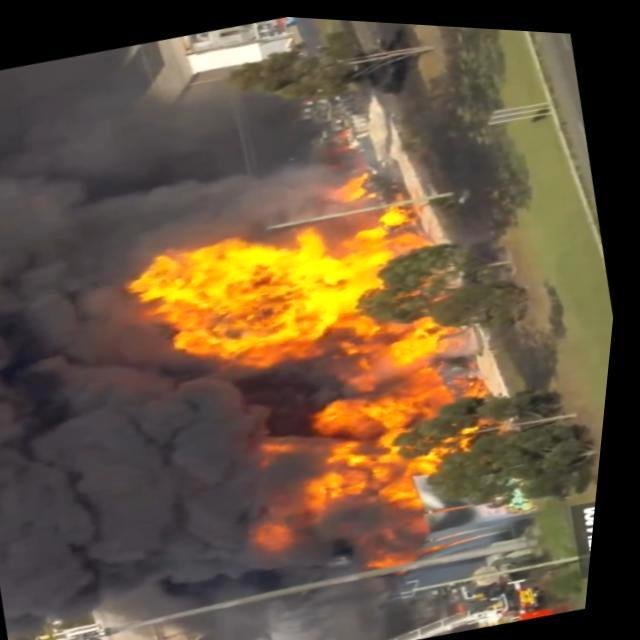fire: (93, 137, 567, 606)
